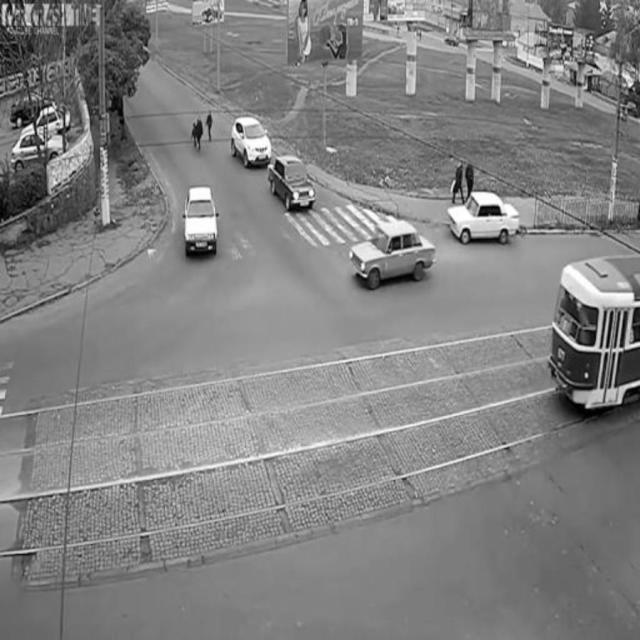person: (187, 110, 205, 152), (451, 157, 466, 204), (463, 157, 477, 205), (203, 101, 217, 146)
vehicle: (549, 254, 640, 420), (351, 219, 437, 297), (453, 189, 524, 250), (178, 183, 222, 265), (9, 121, 67, 172), (268, 152, 316, 213), (230, 112, 271, 168)
